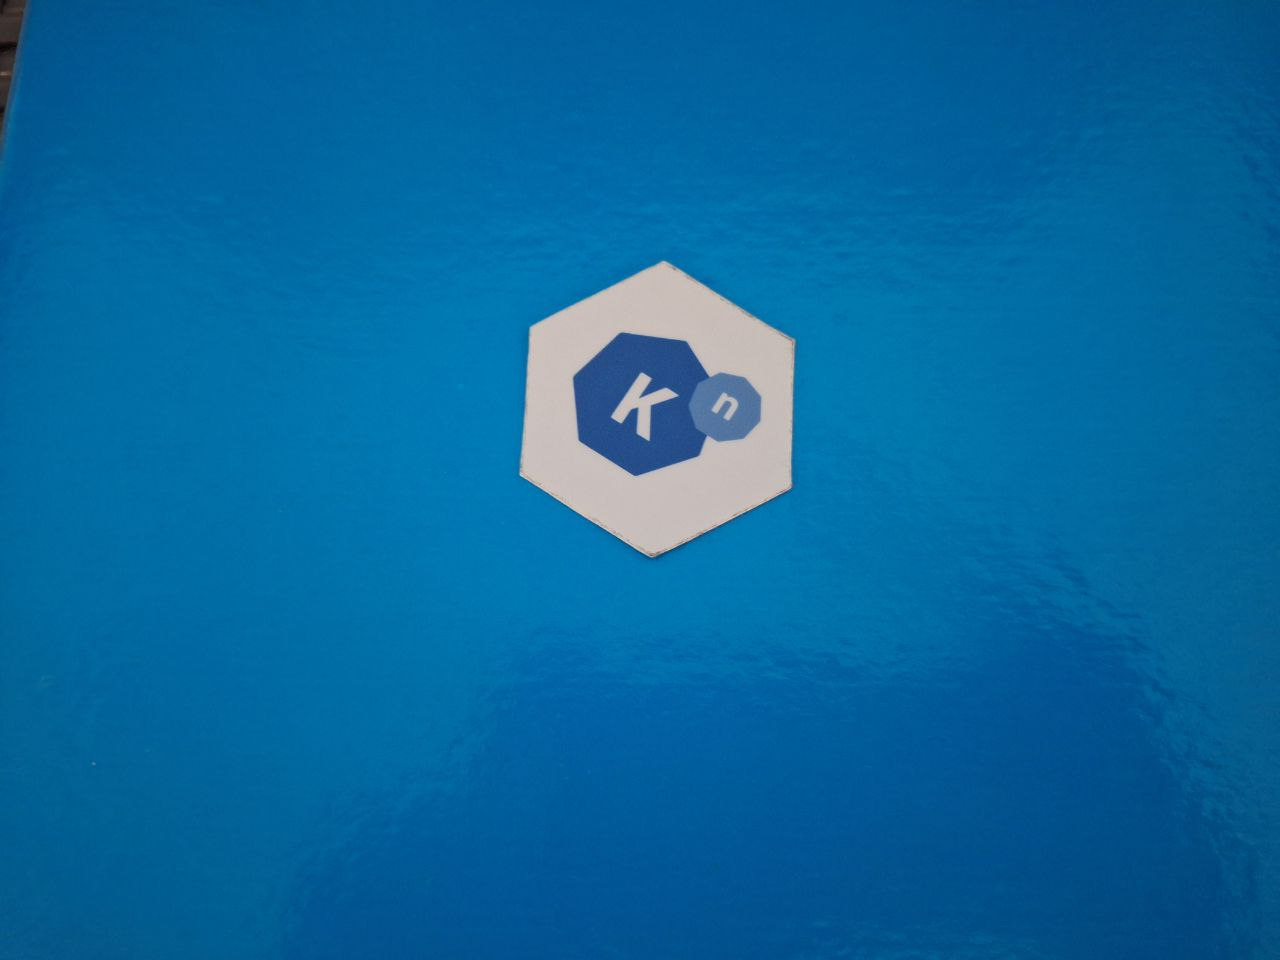knative: (570, 329, 763, 476)
